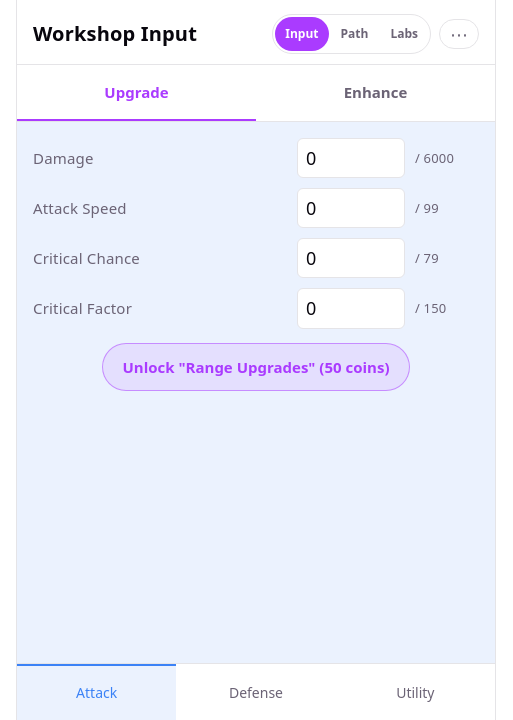
Test case: App › keeps Upgrade and Enhance level entries independent when switching modes
The image size is (513, 720).
Replace the text in the number field labelled "Damage" with "10" at (351, 158), box [297,138,405,178]
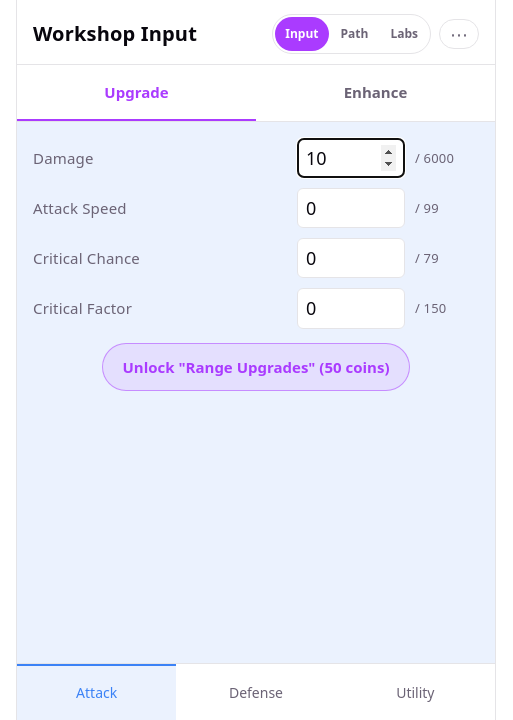
Click the tab "Enhance" at (376, 93), box [256,65,495,121]
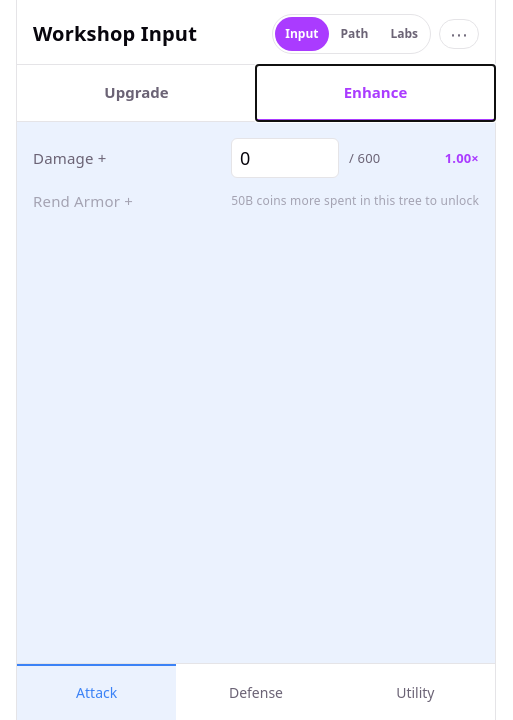
Replace the text in the number field labelled "Damage +" with "3" at (285, 158), box [231,138,339,178]
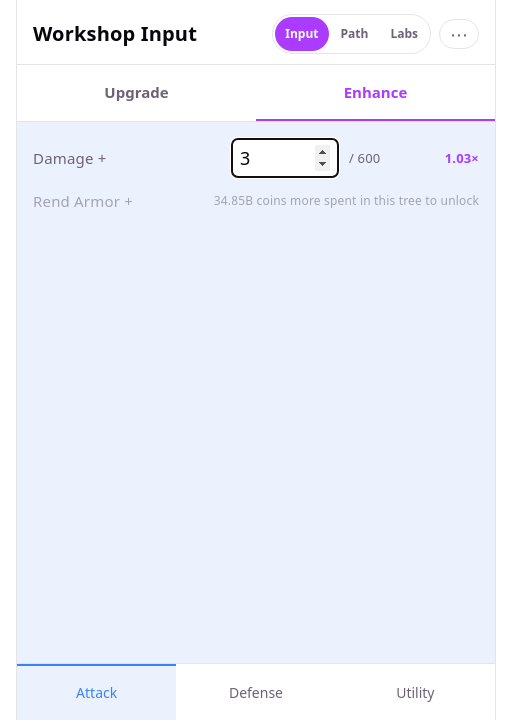
Click the tab "Upgrade" at (136, 93), box [17,65,256,121]
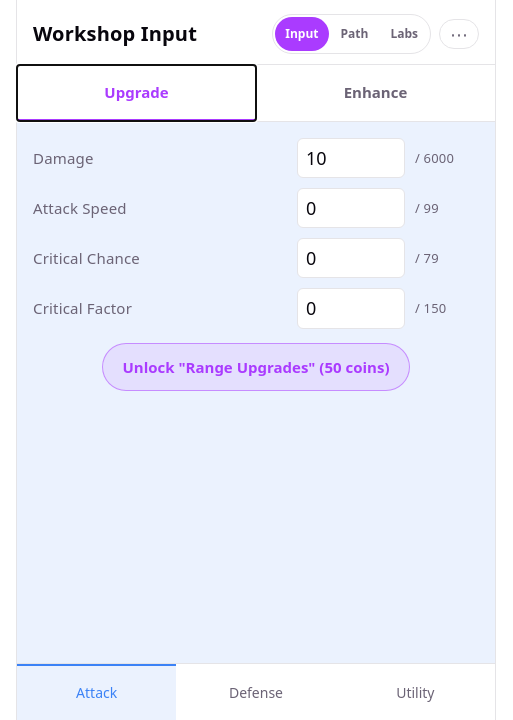
Expected: the number field labelled "Damage" holds "10", [297,138,405,178]
Click the tab "Enhance" at (376, 93), box [256,65,495,121]
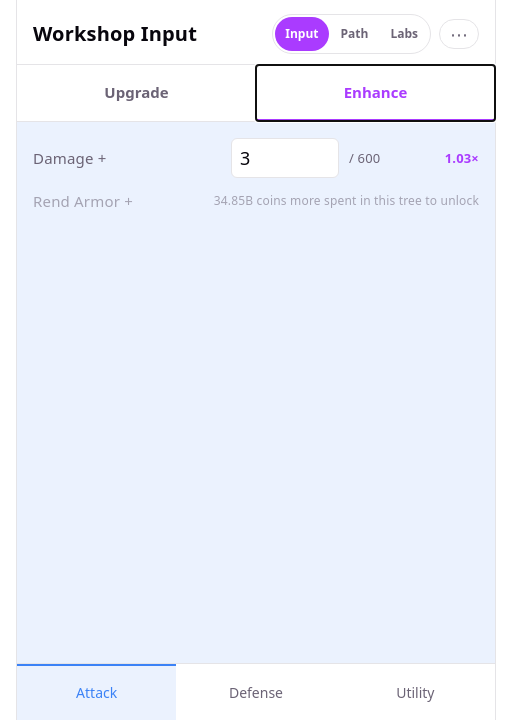
Expected: the number field labelled "Damage +" holds "3", [231,138,339,178]
